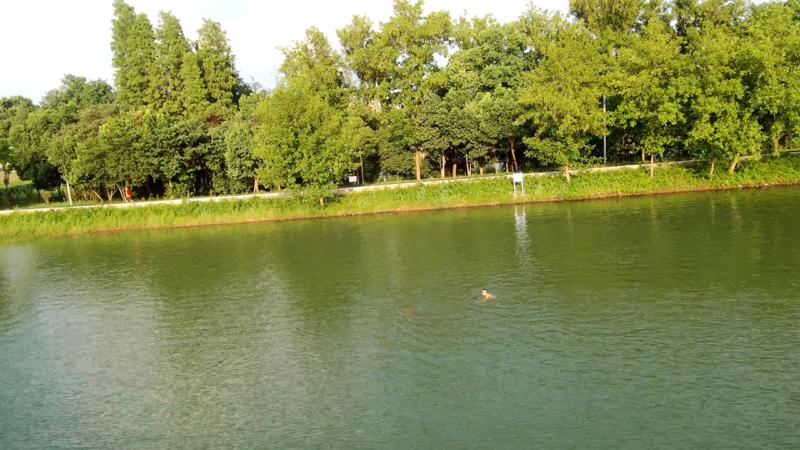passerby: (121, 183, 135, 203)
swimmers: (467, 286, 497, 303)
